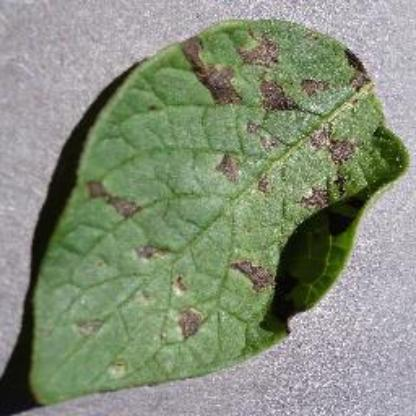Early-Blight: (23, 14, 416, 408)
